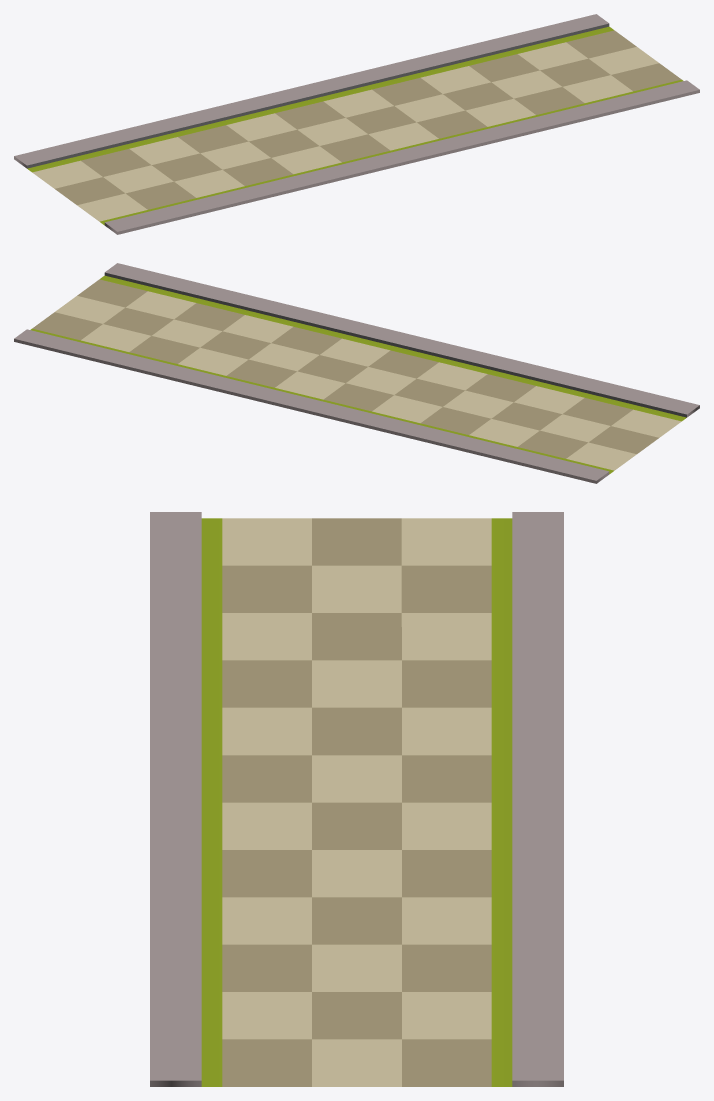
The model's file is Sidewalk.fbx.
3 views of the same model, one above another, from view 1: azimuth 30°, elevation 25°; view 2: azimuth 150°, elevation 25°; view 3: azimuth 270°, elevation 25° (orthographic). The views are drawn at different scales.
Parts seen in each view (by area): view 1: Sidewalk; view 2: Sidewalk; view 3: Sidewalk.
Part boxes in pixels (left/top/right/bottom): Sidewalk: left=14, top=14, right=699, bottom=234; Sidewalk: left=14, top=263, right=699, bottom=483; Sidewalk: left=150, top=512, right=563, bottom=1086.
Size of the model in its own units: 2059 by 10.42 by 634.
